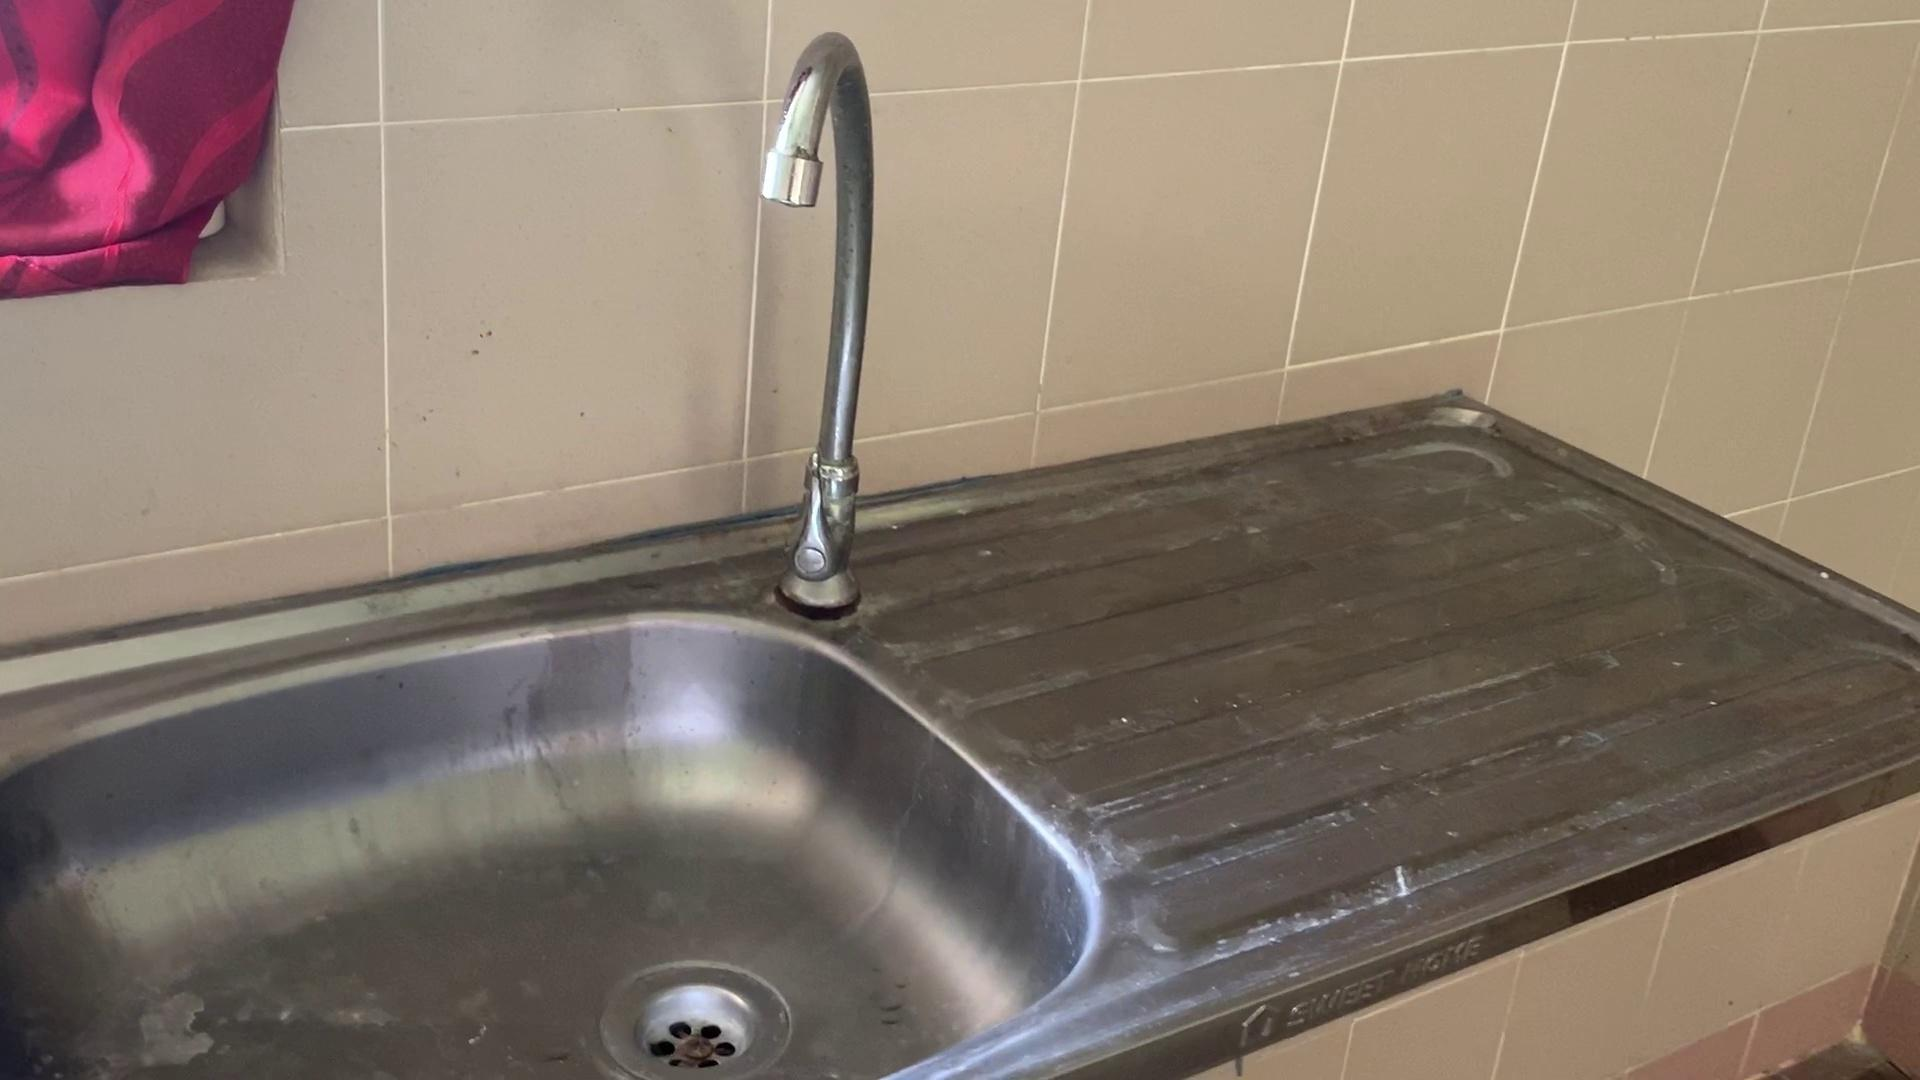Lavaplatos: (0, 80, 1083, 1079)
